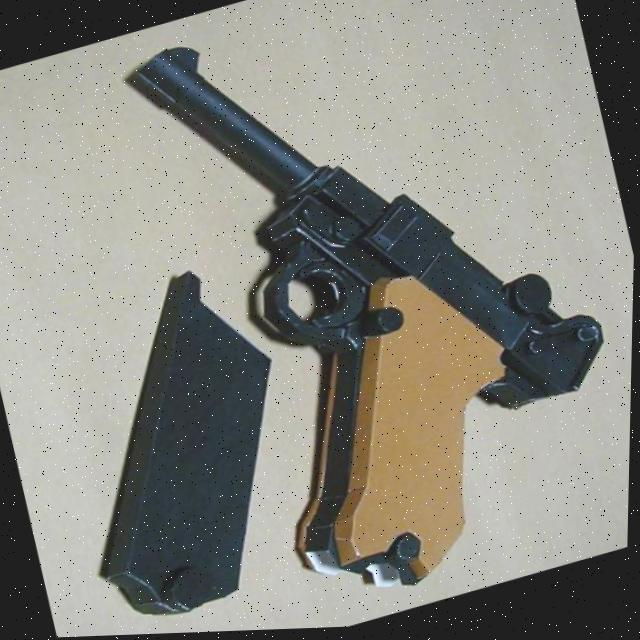firearm: (110, 0, 640, 636)
